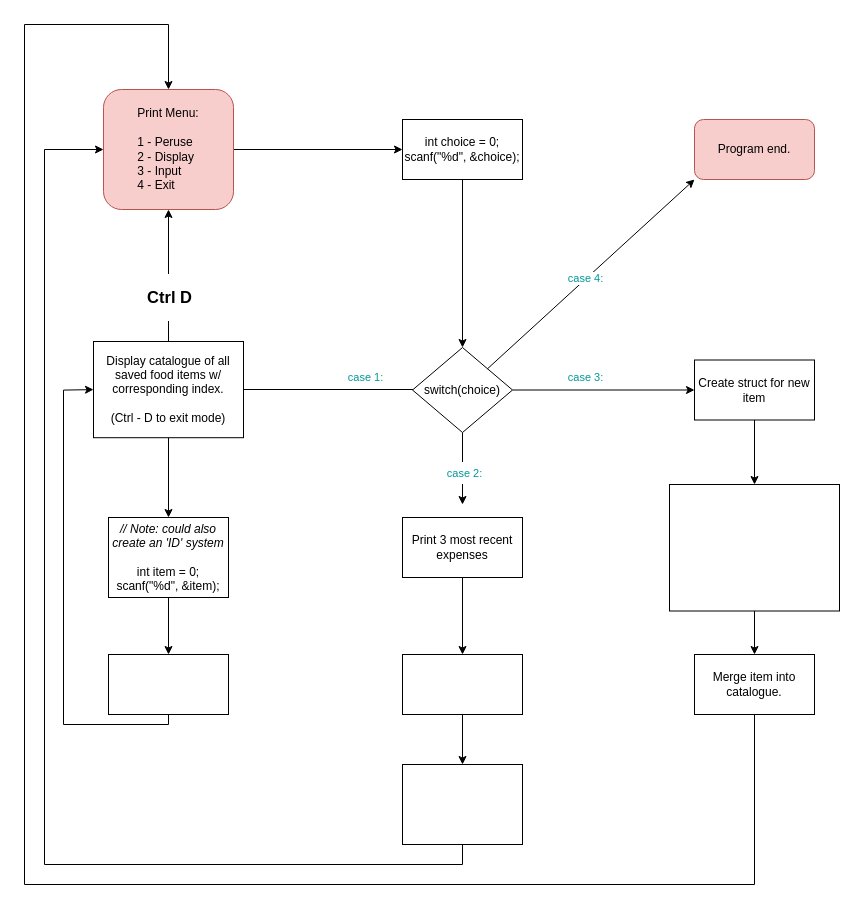
Image size: 857x910. Some labels were removed from this diagram. The box of each missing label's shape, as (x1, y1, x2, y2) in pixels:
Add item info Dish name Price User's rating Computed "sulit-ness" Where to buy: (668, 484, 840, 611)
float budget = 0; scanf("%f", &budget);: (402, 654, 522, 714)
Print additional item's additional info: (108, 654, 228, 714)
Search for food items within the budget Arrange by sulit-ness: (402, 764, 522, 844)
